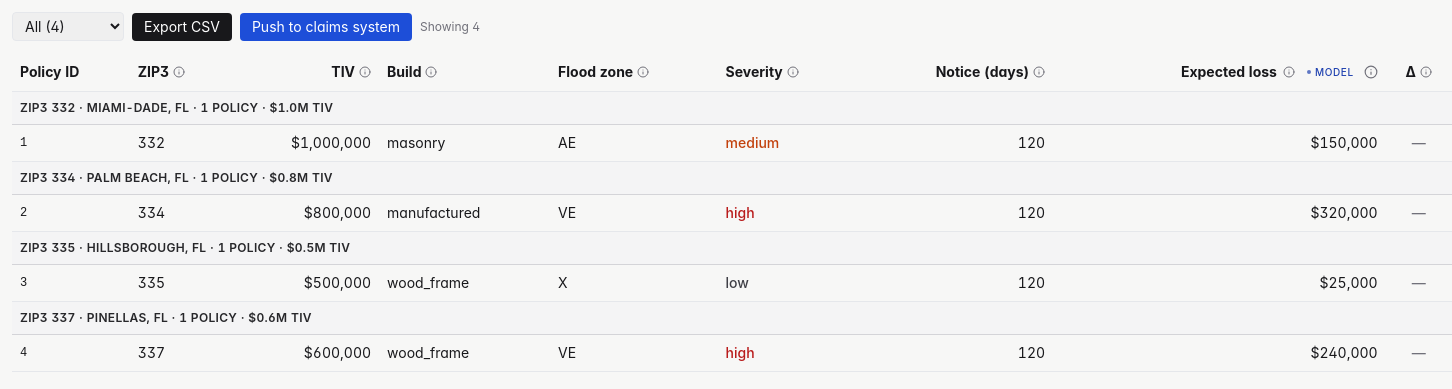
Test: ClaimsTable › push button surfaces an error toast on non-OK response
Click the button with test id "push-to-claims".
click(326, 26)  # box [240,12,412,40]
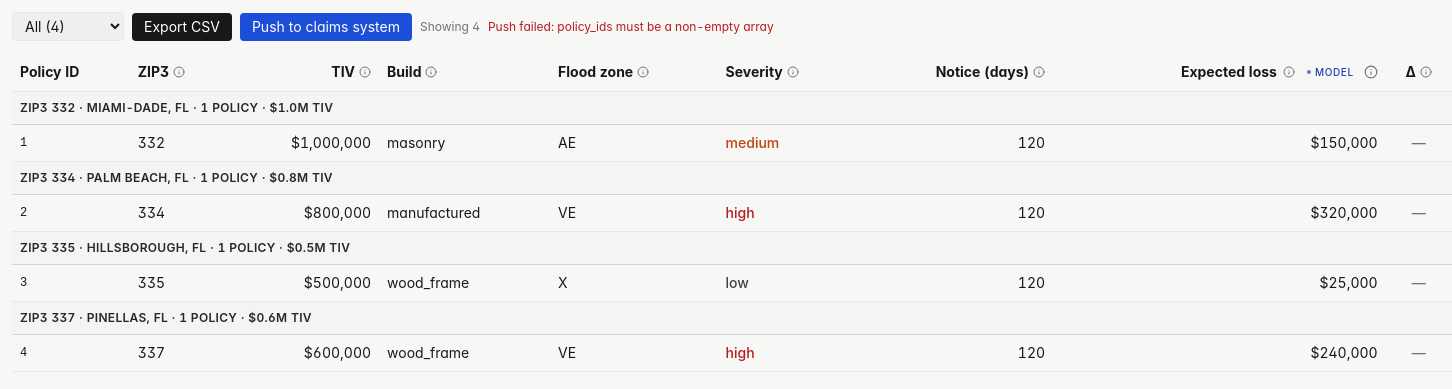
Expected: the message with test id "push-toast" shows "Push failed", [488,18,774,34]
